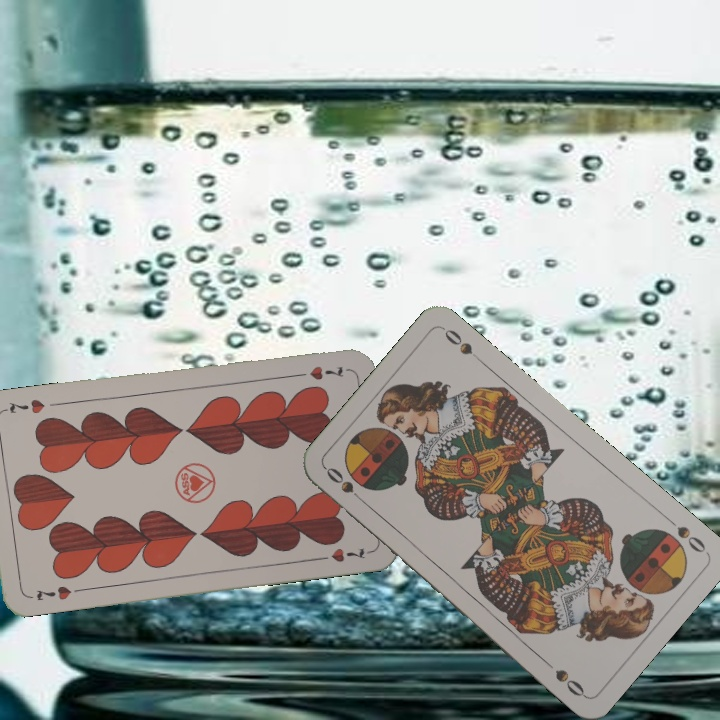H7: (290, 362, 349, 383), (32, 581, 85, 604)
SO: (322, 462, 370, 508), (661, 512, 709, 556)
